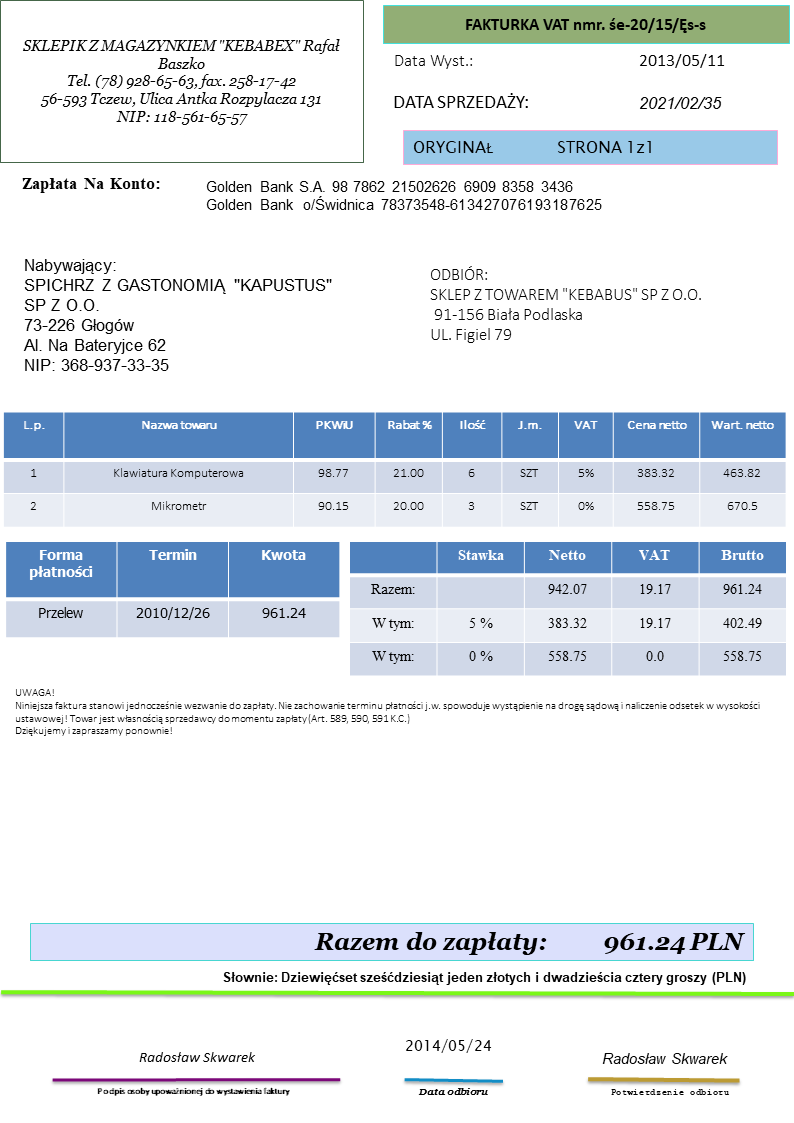Table: (1, 409, 787, 532), (347, 540, 788, 677), (4, 540, 342, 642)
TextBox: (11, 684, 766, 743), (20, 254, 339, 377), (17, 34, 342, 127), (426, 261, 705, 348), (203, 176, 606, 217), (312, 927, 747, 959), (220, 968, 748, 990), (460, 11, 708, 38), (409, 136, 656, 158), (389, 90, 531, 113), (19, 173, 162, 195), (95, 1085, 292, 1100), (599, 1049, 728, 1069), (135, 1048, 257, 1067), (637, 48, 726, 71), (402, 1035, 495, 1055), (637, 93, 724, 114), (389, 50, 474, 71), (608, 1085, 732, 1099), (416, 1084, 489, 1099)
